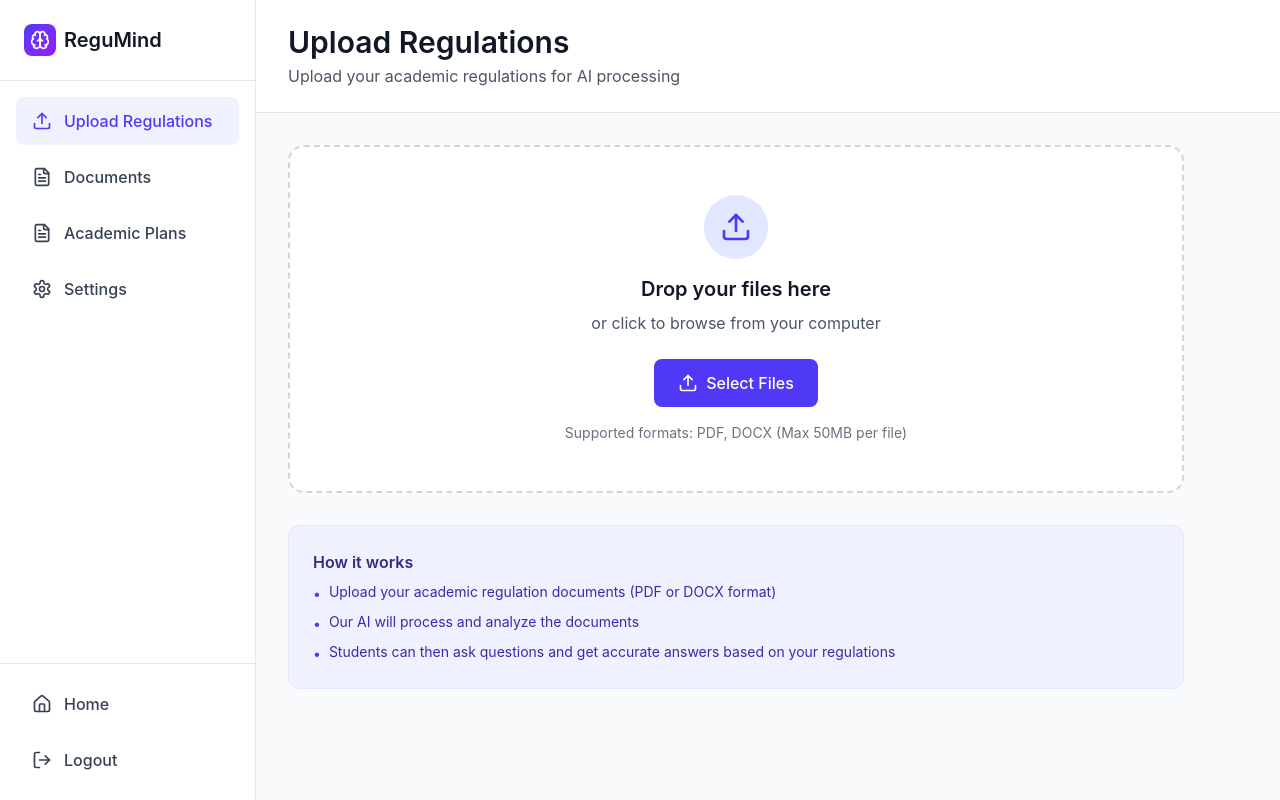
UniversityDashboard — tab navigation › switches to the Settings tab when clicked
Expected: the heading "Drop your files here" is shown, [641,277,831,301]
Step 1. Click the button "Settings" → point(128, 289), box [16,265,239,313]
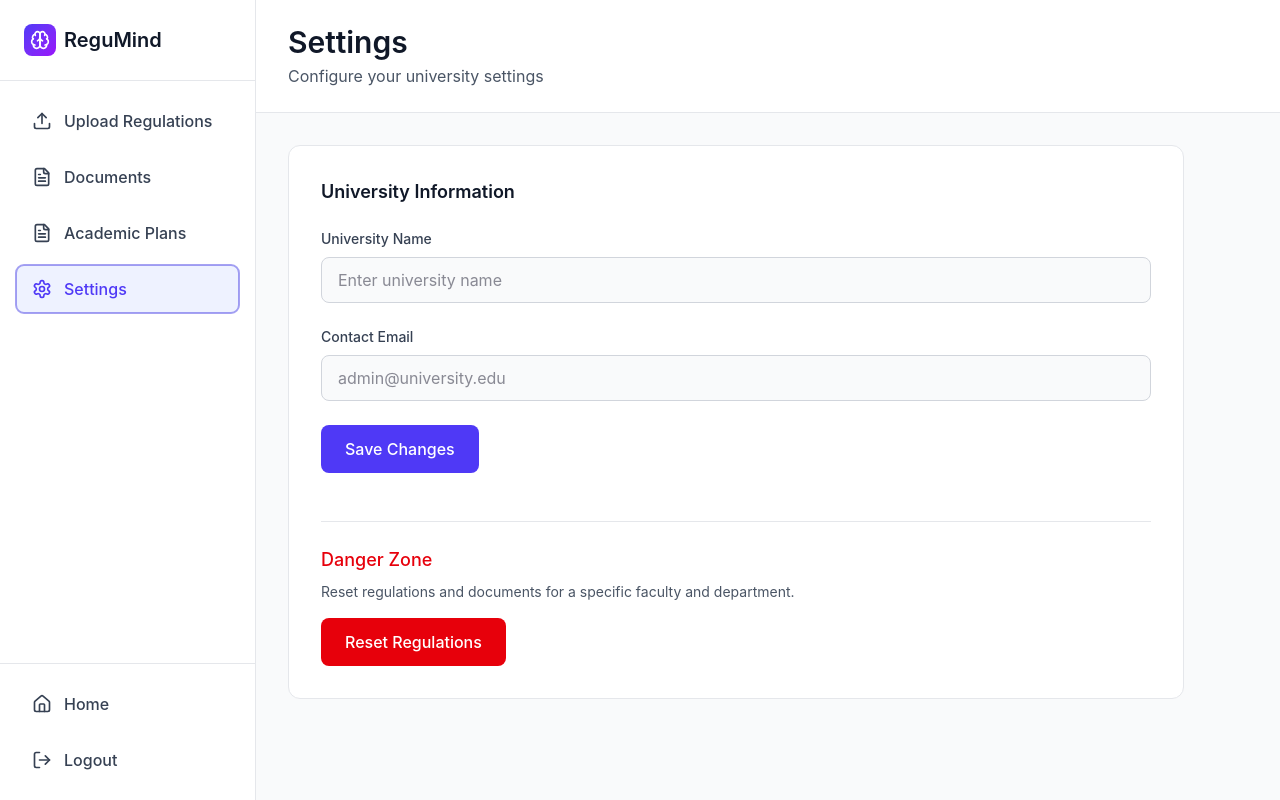
Expected: the heading "University Information" is shown, [321,181,515,202]
